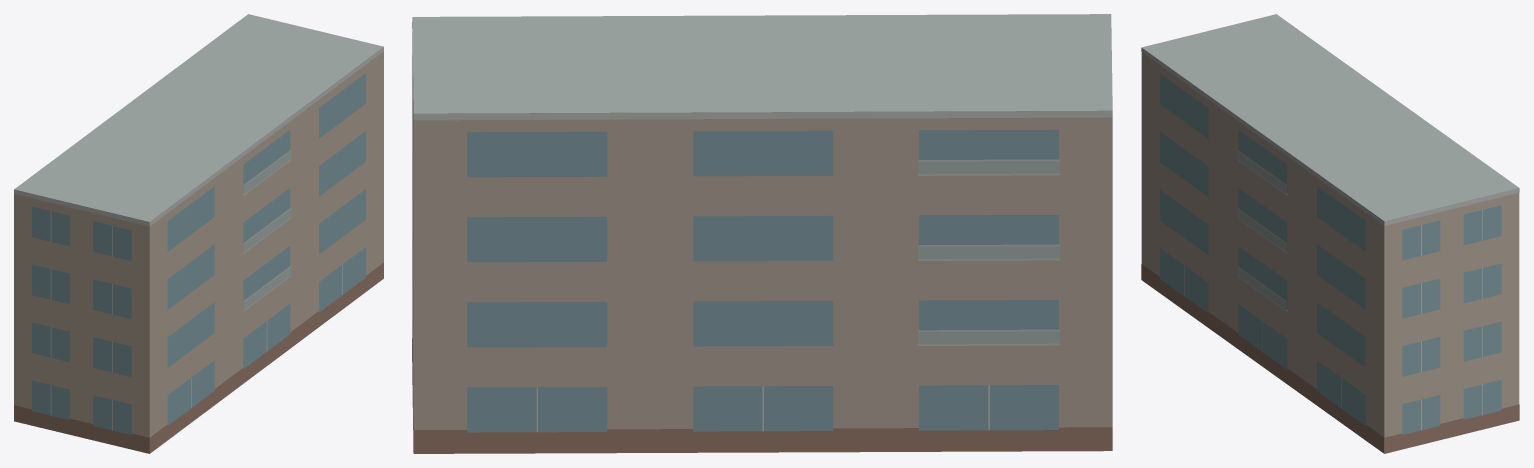
The model's file is survey-upis-32955602.glb.
3 renders of one model, left to right at view 1: azimuth 30°, elevation 25°; view 2: azimuth 150°, elevation 25°; view 3: azimuth 270°, elevation 25°, orthographic. The views are drawn at different scales.
Visible parts, largest first — view 1: survey-upis-32955602.tmp; view 2: survey-upis-32955602.tmp; view 3: survey-upis-32955602.tmp.
Part boxes in pixels (box(x1,y1,x2,y2)): survey-upis-32955602.tmp: box(14, 14, 383, 453); survey-upis-32955602.tmp: box(412, 14, 1112, 453); survey-upis-32955602.tmp: box(1141, 14, 1519, 453).
Bounding box in the file's own units: 23.52 × 12.3 × 18.12.
